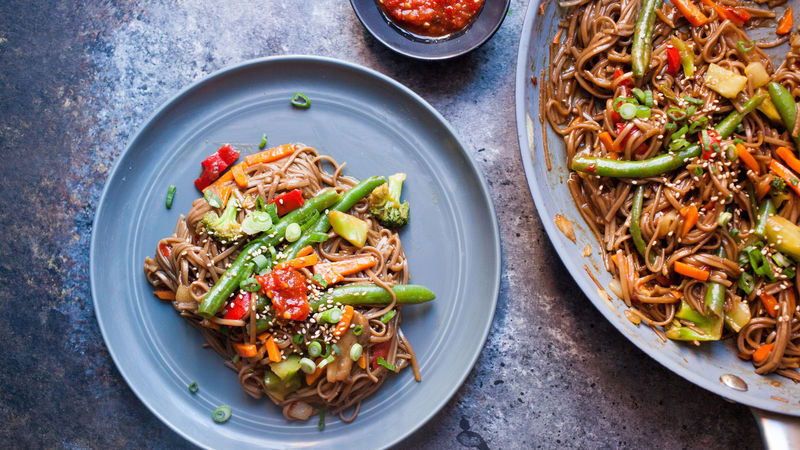Soba: (556, 4, 800, 368), (162, 147, 424, 407)
